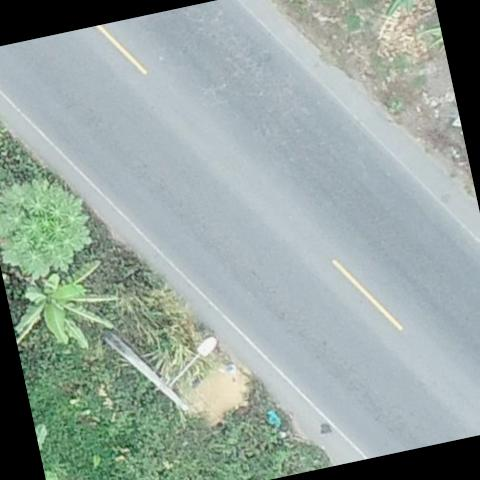Banana-plant: (2, 253, 125, 365)
